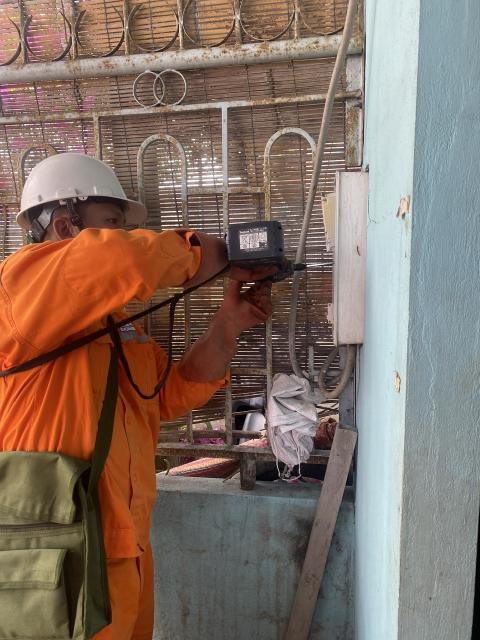gloves: (163, 285, 287, 378), (181, 220, 278, 287)
helmet: (1, 142, 166, 233)
